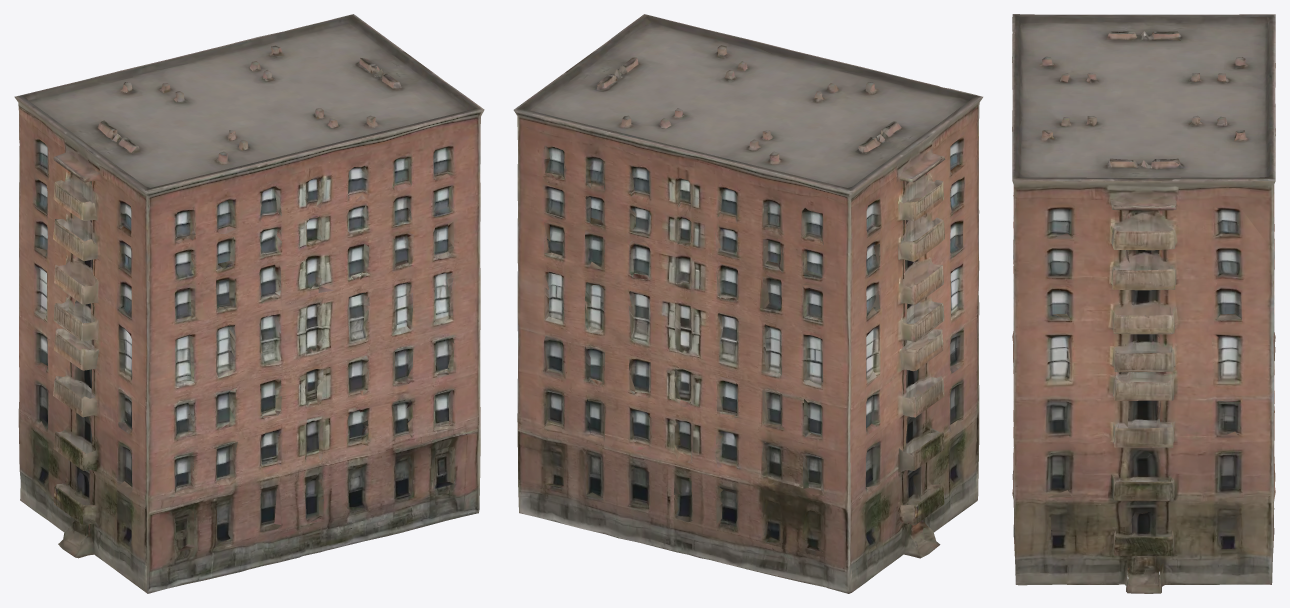
Rendered from tenement-5.glb.
3 renders of one model, left to right at view 1: azimuth 30°, elevation 25°; view 2: azimuth 150°, elevation 25°; view 3: azimuth 270°, elevation 25°, orthographic.
Visible parts, largest first — view 1: Building; view 2: Building; view 3: Building.
Boxes of the visible parts, <box> form: Building: <box>14,14,484,593</box>; Building: <box>513,14,982,593</box>; Building: <box>1012,14,1275,593</box>.
Size of the model in its own units: 1.84 by 1.96 by 1.14.
1 material, 1 textured.
